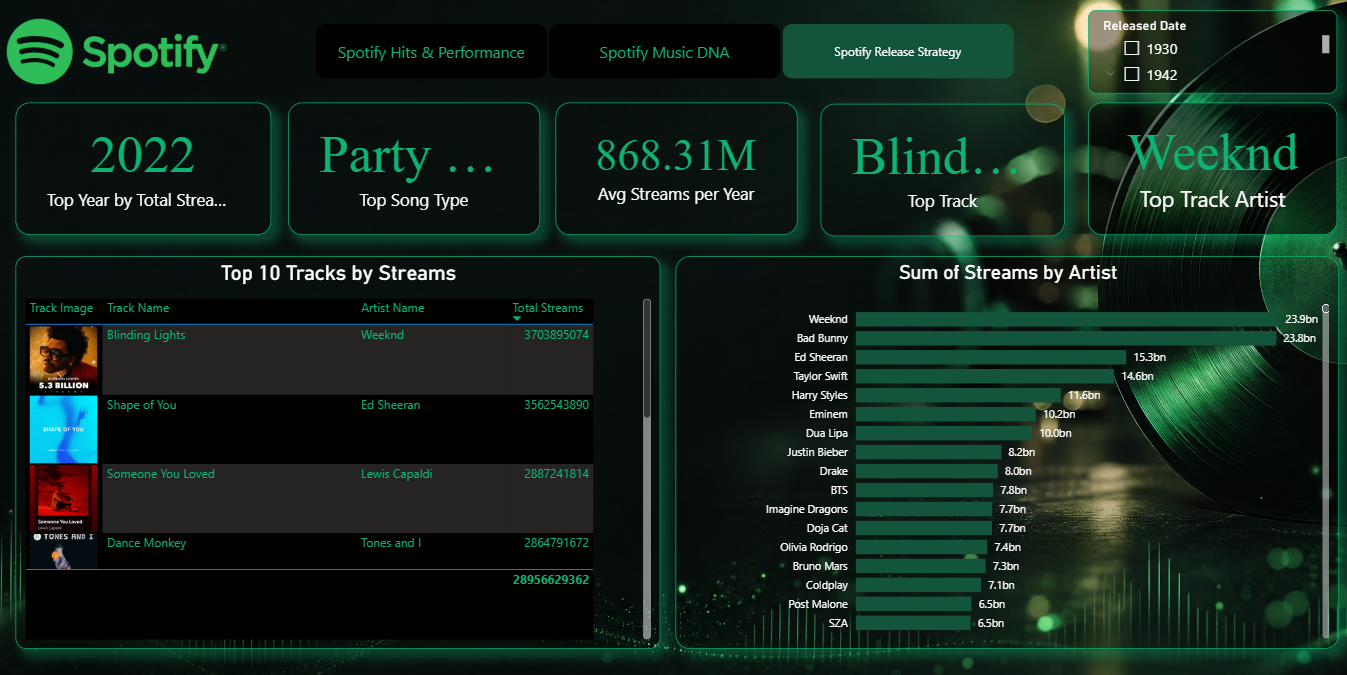

What the dashboard file says about the page in this screenshot:
{"tool":"powerbi","page":{"name":"Spotify Release Strategy","canvas":[1500,753],"ordinal":2},"visuals":[{"type":"image","box":[10,0,244.3,114.3],"z":0},{"type":"cardVisual","fields":{"Data":["spotify-2023.Top Year by Total Streams (Min 10 Tracks)"]},"box":[10,114,280,148],"z":1},{"type":"cardVisual","fields":{"Data":["spotify-2023.Top Song Type"]},"box":[306,114,308,148],"z":2},{"type":"cardVisual","fields":{"Data":["Fact Track.Avg Streams - Major"]},"box":[916,113.8,294.2,148.5],"z":3},{"type":"cardVisual","fields":{"Data":["spotify-2023.Avg Streams per Year"]},"box":[630,114,268.6,147.1],"z":4},{"type":"slicer","title":"Released Date","fields":{"Values":["spotify-2023.Released Year Hierarchy.Released Year","spotify-2023.Released Year Hierarchy.Released Month","spotify-2023.Released Year Hierarchy.Released Day"]},"box":[1210,11.4,277.1,92.9],"z":6},{"type":"tableEx","title":"Top 10 Tracks by Streams","fields":{"Values":["spotify-2023.Track Image","spotify-2023.Track Name","spotify-2023.Artist Name","spotify-2023.Total Streams"]},"box":[9.7,284.5,709.2,435.8],"z":9},{"type":"pageNavigator","box":[352.9,25.7,775.7,61.4],"z":10},{"type":"tableEx","fields":{"Values":["Fact Track.Track Name","Fact Track.In Apple Charts","Fact Track.In Apple Playlists","Fact Track.In Deezer Playlists","Fact Track.In Dezeer Charts","Sum(Fact Track.Streams)"]},"box":[741.7,285,745,436.7],"z":11},{"type":"cardVisual","fields":{"Data":["spotify-2023.Avg Streams - Minor"]},"box":[1226,116,264,150],"z":12}]}

Visuals, with their boxes in screenshot pixels (x1, y1, x2, y2), scaled from the page's 1500x753 canvas onto the 1347x675 screenshot:
image: locate(9, 0, 228, 102)
cardVisual - spotify-2023.Top Year by Total Streams (Min 10 Tracks): locate(9, 102, 260, 235)
cardVisual - spotify-2023.Top Song Type: locate(275, 102, 551, 235)
cardVisual - Fact Track.Avg Streams - Major: locate(823, 102, 1087, 235)
cardVisual - spotify-2023.Avg Streams per Year: locate(566, 102, 807, 234)
"Released Date" slicer: locate(1087, 10, 1335, 93)
"Top 10 Tracks by Streams" tableEx: locate(9, 255, 646, 646)
pageNavigator: locate(317, 23, 1013, 78)
tableEx - Fact Track.Track Name x Fact Track.In Apple Charts: locate(666, 255, 1335, 647)
cardVisual - spotify-2023.Avg Streams - Minor: locate(1101, 104, 1338, 238)
